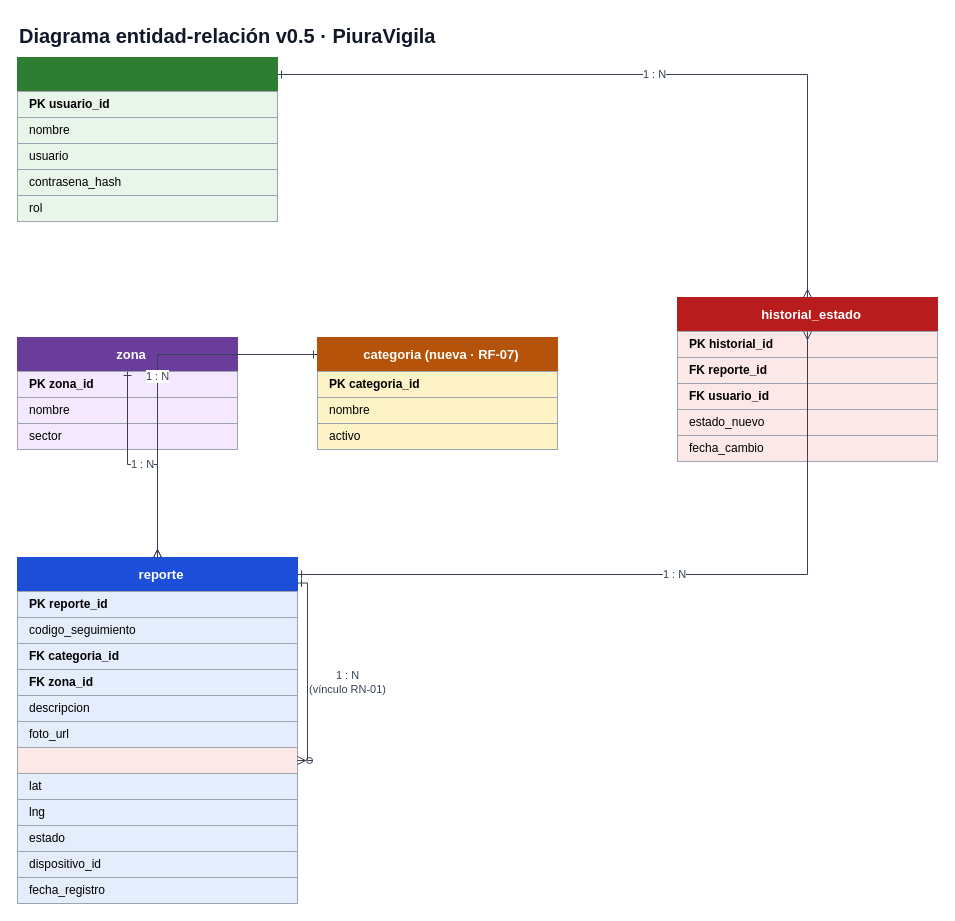
Image size: 955x921. Some labels were removed from this diagram. The shapes that lost their labels are listed below. From the top down, each one's box as (x1, y1, x2, y2) in pixels, then its label:
(16, 56, 278, 92): usuario_municipal
(16, 746, 298, 774): FK reporte_original_id
